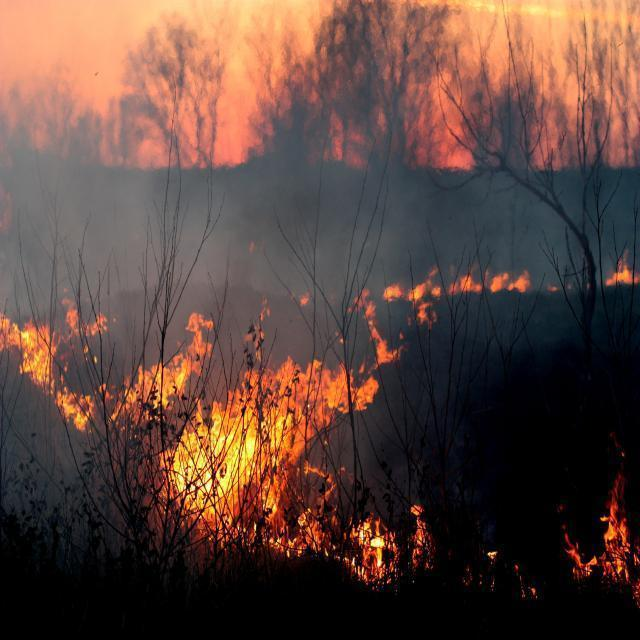Fire: (0, 0, 640, 161), (188, 376, 323, 552), (6, 286, 125, 426), (570, 481, 640, 639), (334, 280, 422, 405), (320, 496, 439, 583), (165, 298, 246, 421), (389, 257, 553, 316), (463, 535, 563, 625), (68, 368, 174, 431), (596, 222, 640, 317), (24, 323, 50, 387), (354, 379, 377, 410), (357, 484, 362, 520)
Smoke: (0, 163, 191, 280), (184, 172, 377, 270), (378, 184, 556, 251)
